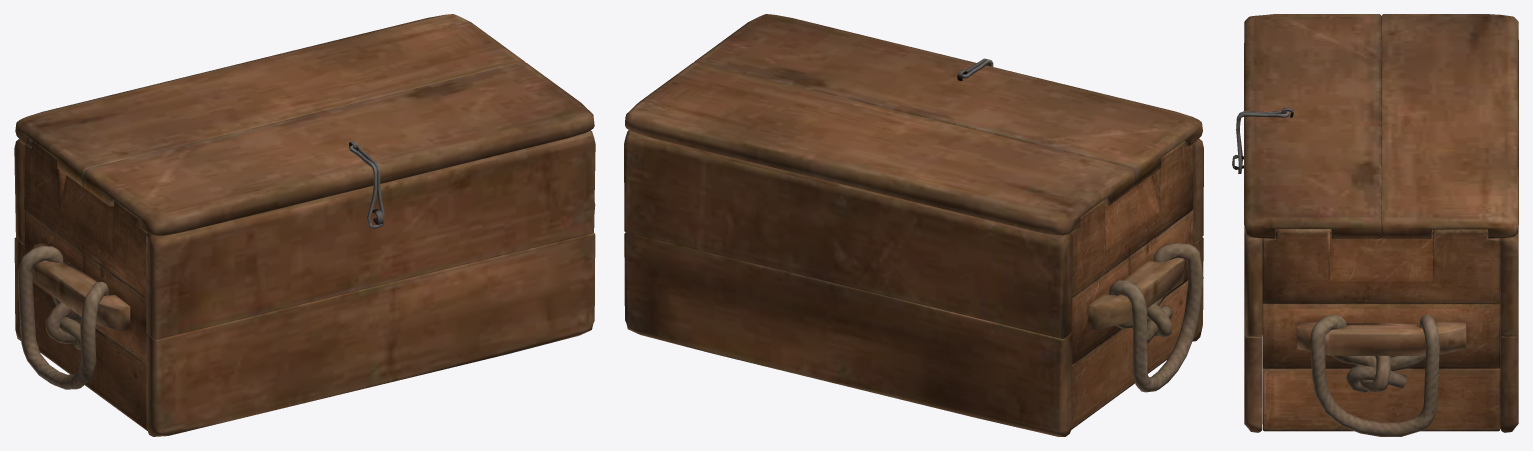
Rendered from wooden_crate_01_1k_lo.glb.
3 views of the same model, side by side, from view 1: azimuth 30°, elevation 25°; view 2: azimuth 150°, elevation 25°; view 3: azimuth 270°, elevation 25° (orthographic). The views are drawn at different scales.
Parts seen in each view (by area): view 1: wooden_crate_01, wooden_crate_01_lid, wooden_crate_01_latch; view 2: wooden_crate_01, wooden_crate_01_lid; view 3: wooden_crate_01_lid, wooden_crate_01, wooden_crate_01_latch.
Boxes of the visible parts, x1,y1,x2,y2 form: wooden_crate_01: (14,130,595,436); wooden_crate_01_lid: (15,14,594,236); wooden_crate_01_latch: (349,145,384,228); wooden_crate_01: (624,130,1203,436); wooden_crate_01_lid: (625,14,1202,235); wooden_crate_01_lid: (1244,14,1518,238); wooden_crate_01: (1232,155,1518,436); wooden_crate_01_latch: (1236,110,1289,173).
Size of the model in its own units: 0.8253 by 0.3495 by 0.4085.
1 material, 1 textured.
